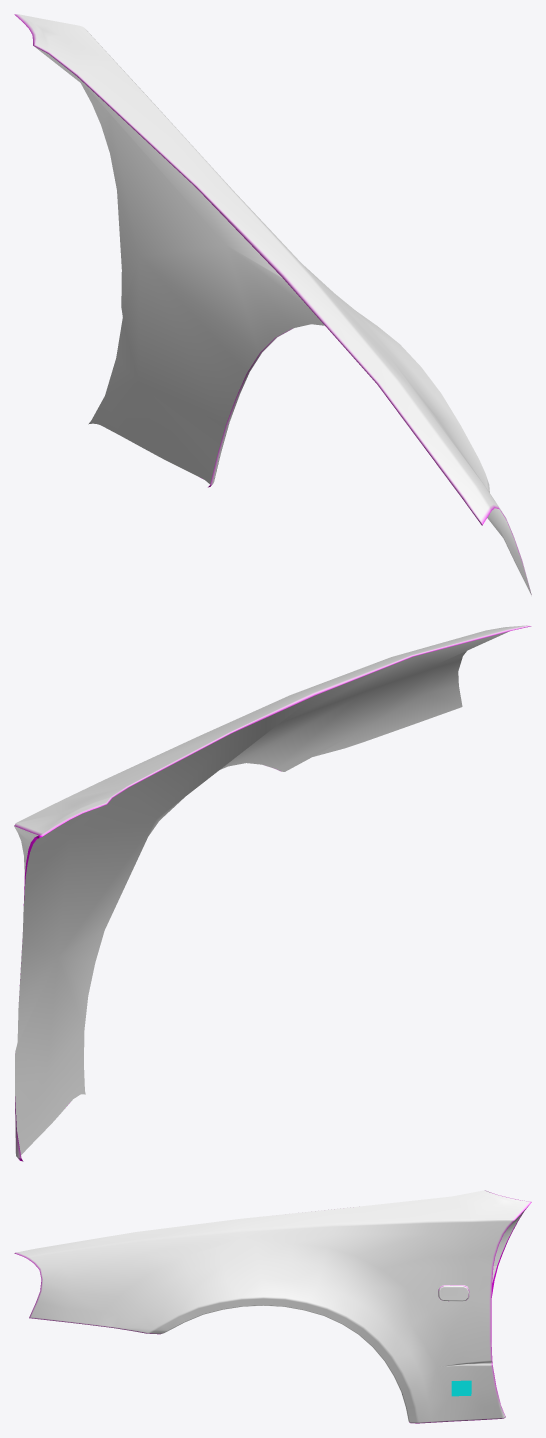
File: Car_Nissan_SkylineGTRVspecR34_1999_FenderFL_SetA.fbx
The picture shows the model from 3 angles, top to bottom: view 1: azimuth 30°, elevation 25°; view 2: azimuth 150°, elevation 25°; view 3: azimuth 270°, elevation 25°; orthographic projection. The views are drawn at different scales.
Parts seen in each view (by area): view 1: FenderFL 6; view 2: FenderFL 6; view 3: FenderFL 6.
Part boxes in pixels (x1,y1,x2,y2): FenderFL 6: (14, 14, 531, 595); FenderFL 6: (14, 625, 531, 1161); FenderFL 6: (14, 1190, 531, 1423).
Size of the model in its own units: 0.2093 by 0.5704 by 1.29.
